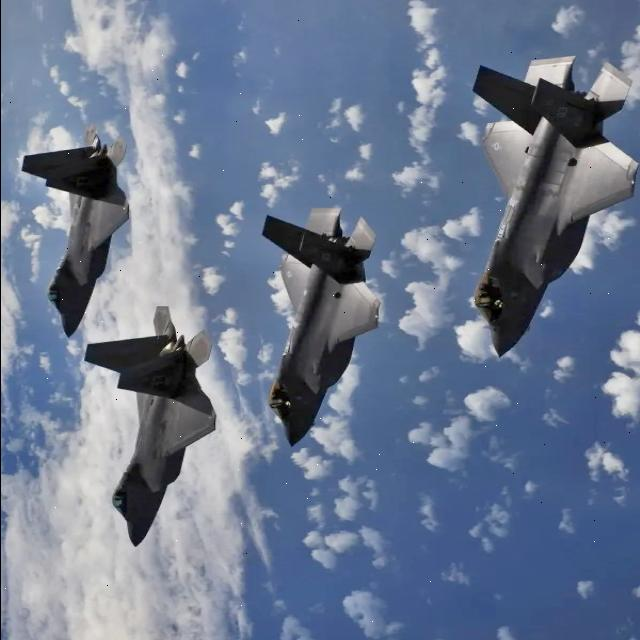F22: (431, 18, 634, 370), (214, 191, 411, 463), (70, 309, 239, 585), (4, 125, 137, 352)
